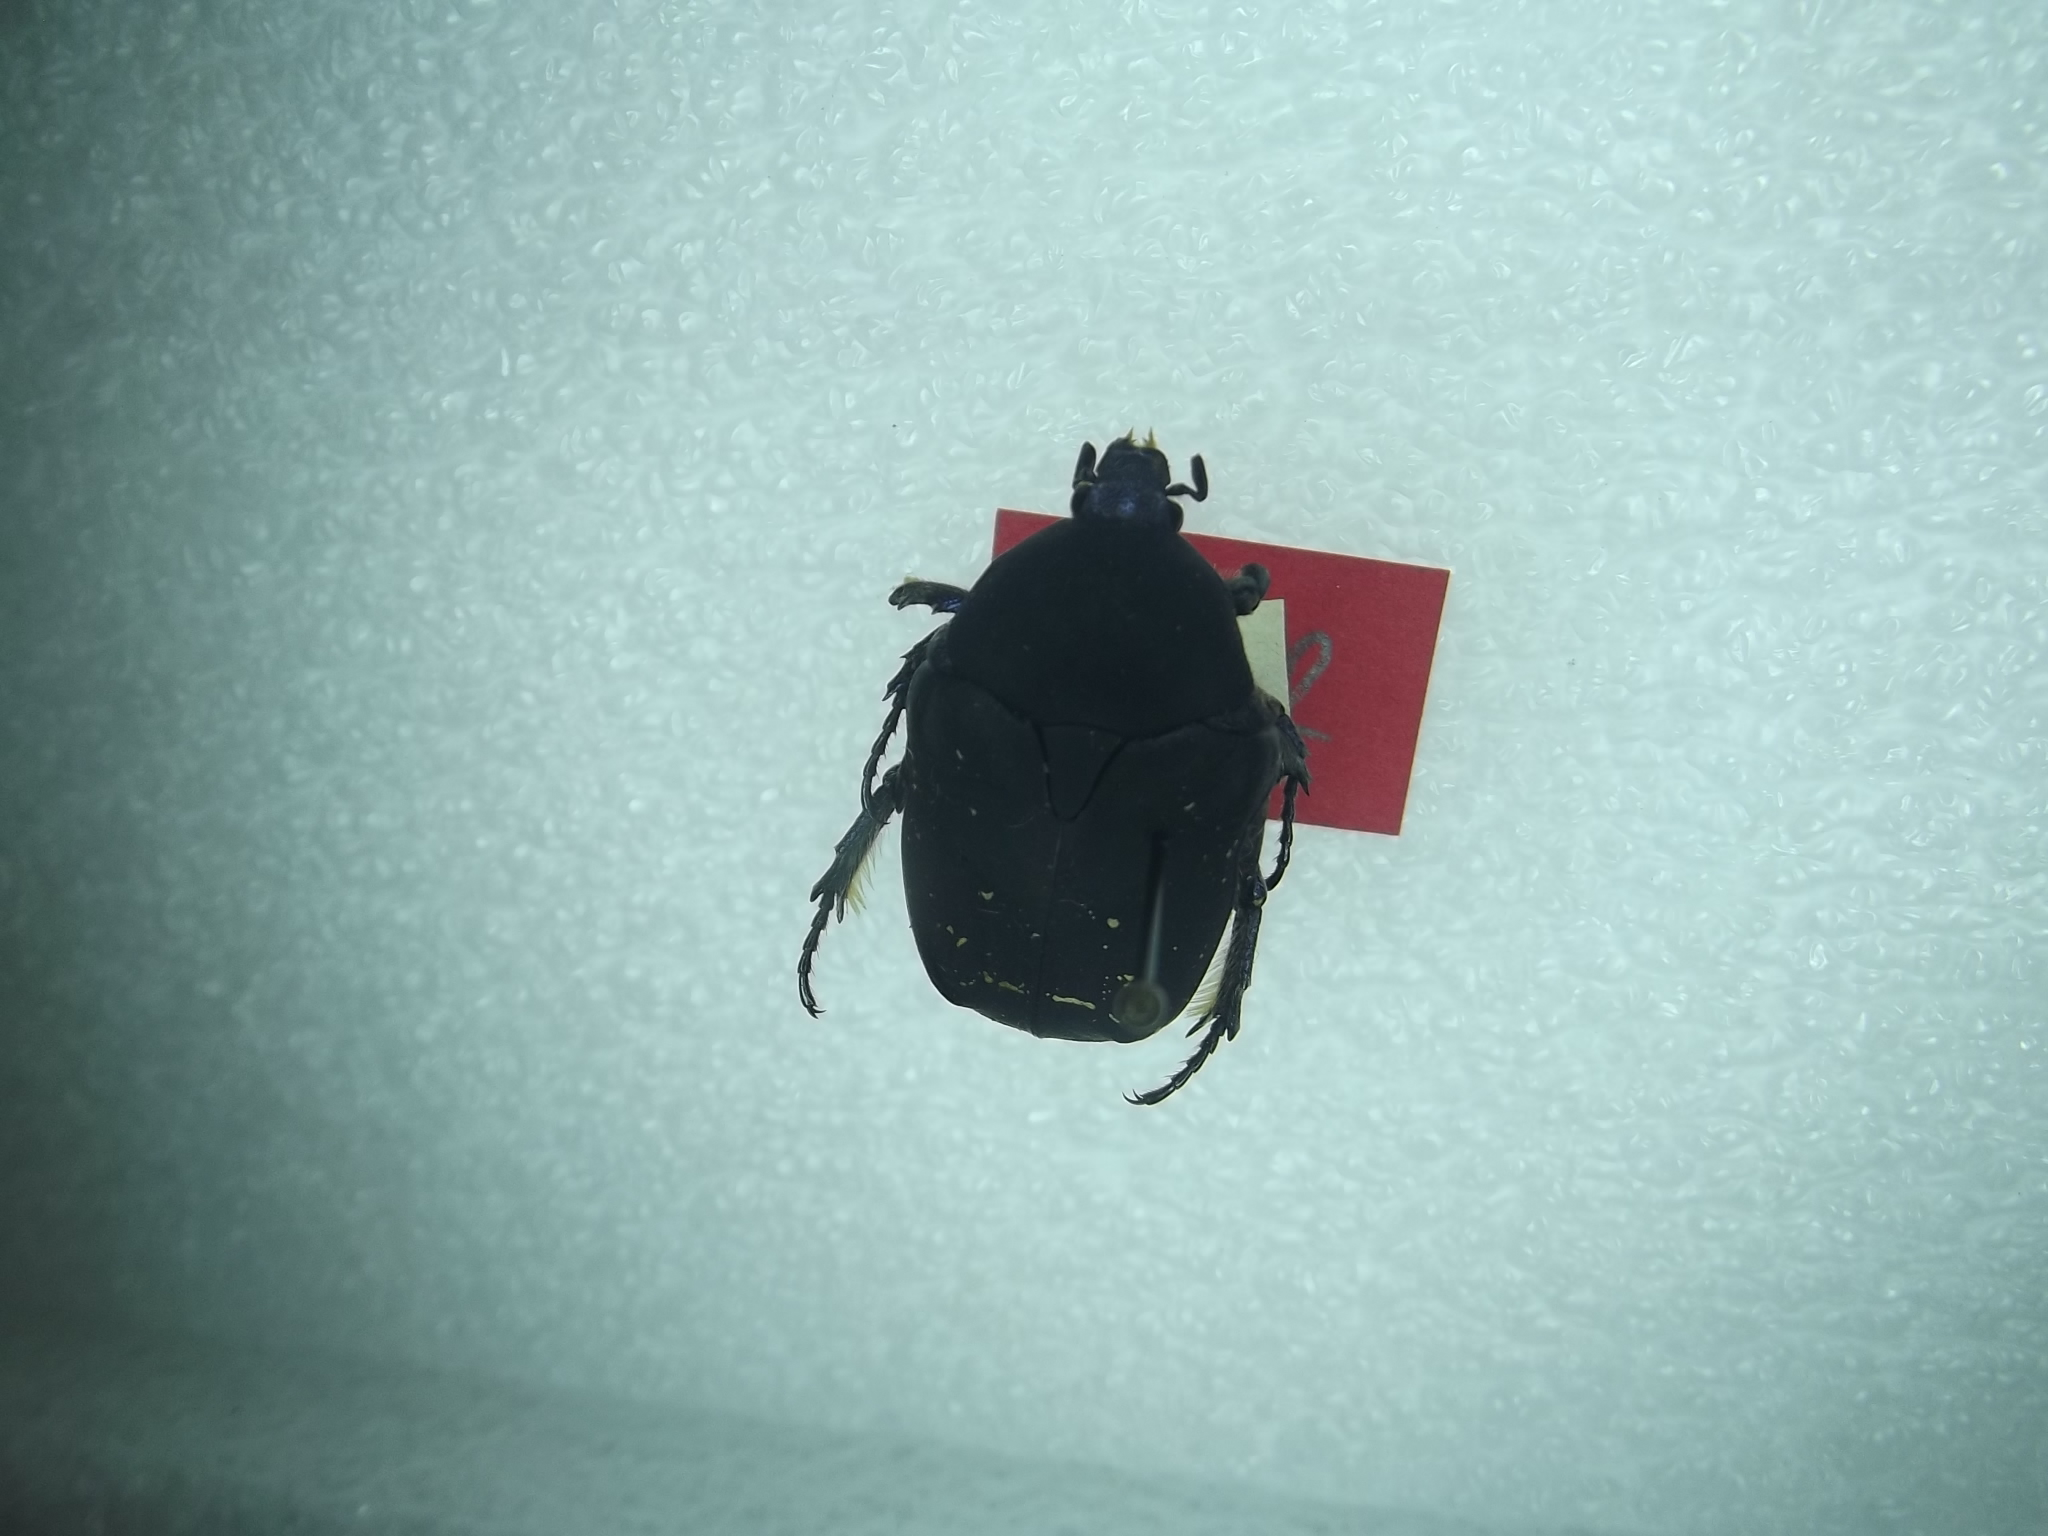Protaetia_ungarica_americana: (771, 426, 1326, 1102)
